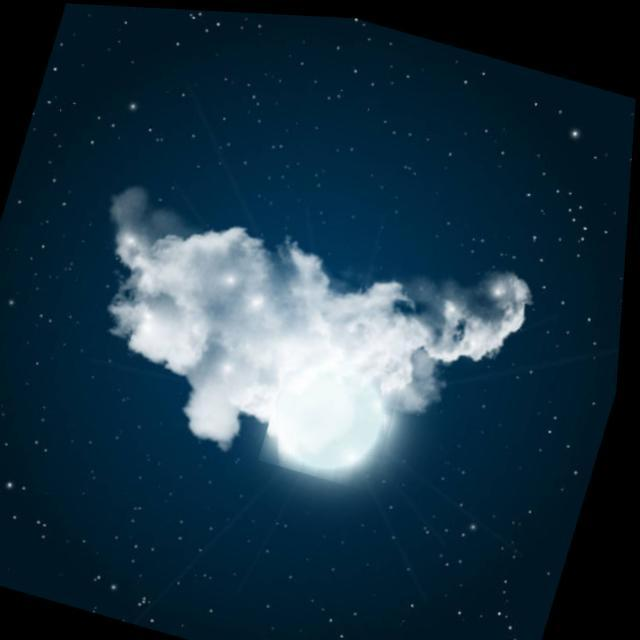moon: (262, 338, 414, 490)
